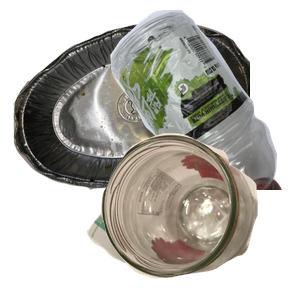glass: (98, 131, 300, 300)
metal: (11, 20, 251, 200)
plastic: (73, 10, 300, 190)
trash: (84, 133, 292, 300)
